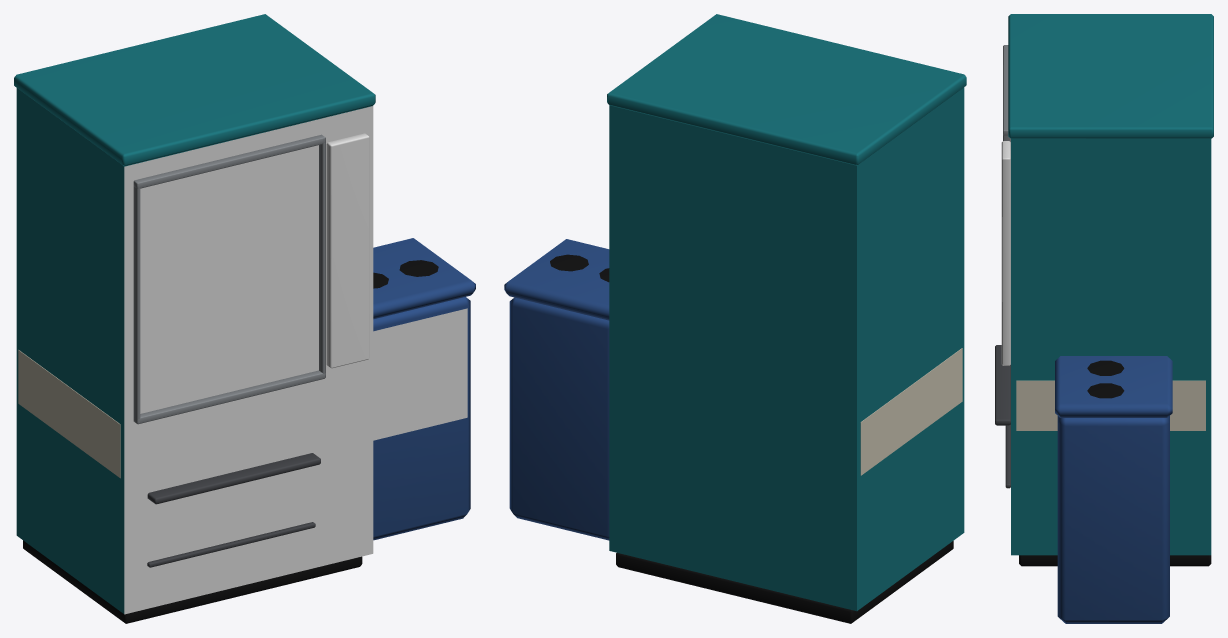
The model's file is VendingKM.fbx.
3 renders of one model, left to right at view 1: azimuth 30°, elevation 25°; view 2: azimuth 150°, elevation 25°; view 3: azimuth 270°, elevation 25°, orthographic. The views are drawn at different scales.
Parts seen in each view (by area): view 1: VendingKM; view 2: VendingKM; view 3: VendingKM.
Part boxes in pixels (x1,y1,x2,y2): VendingKM: (14,14,475,623); VendingKM: (504,14,966,623); VendingKM: (995,14,1213,623).
Size of the model in its own units: 1.53 by 1.83 by 0.82.
